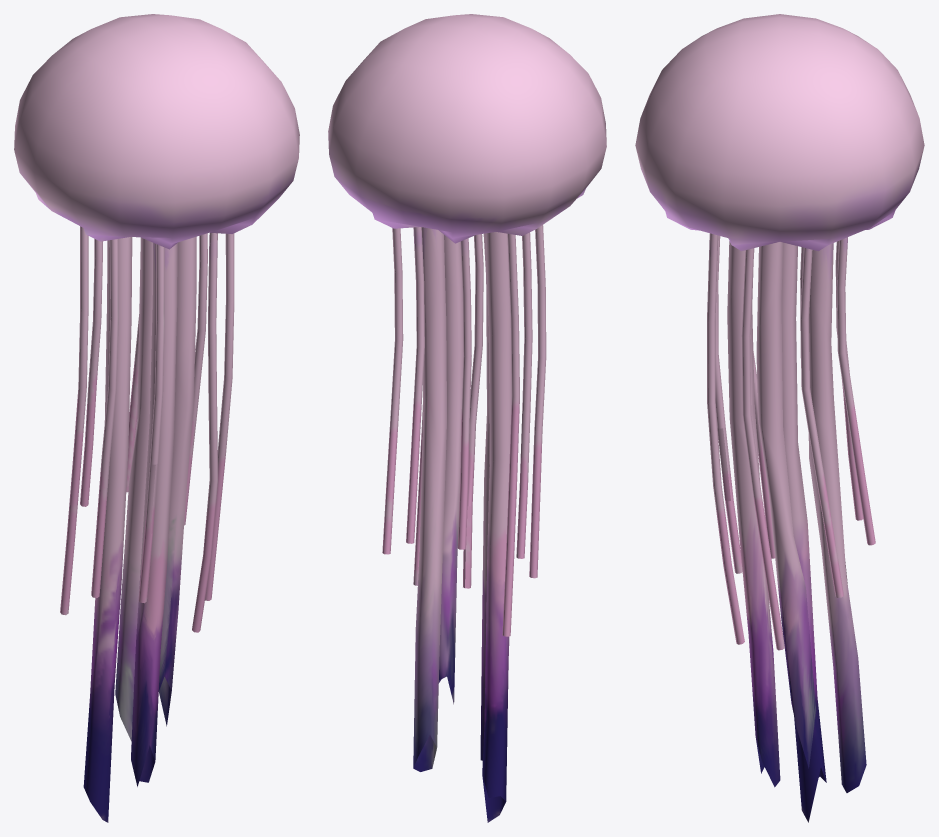
File: jellyfish1_edit_for_FBX.fbx
3 views of the same model, side by side, from view 1: azimuth 30°, elevation 25°; view 2: azimuth 150°, elevation 25°; view 3: azimuth 270°, elevation 25° (orthographic). The views are drawn at different scales.
Parts seen in each view (by area): view 1: pCube2, TubeMesh12, TubeMesh15, TubeMesh10, TubeMesh11, TubeMesh7, TubeMesh3, TubeMesh4, TubeMesh5, TubeMesh6, TubeMesh2, TubeMesh8 (+1 smaller); view 2: pCube2, TubeMesh11, TubeMesh12, TubeMesh10, TubeMesh3, TubeMesh4, TubeMesh8, TubeMesh5, TubeMesh1, TubeMesh7, TubeMesh2, TubeMesh15 (+1 smaller); view 3: pCube2, TubeMesh10, TubeMesh11, TubeMesh15, TubeMesh12, TubeMesh7, TubeMesh6, TubeMesh8, TubeMesh1, TubeMesh5, TubeMesh4, TubeMesh2.
Part boxes in pixels (x1,y1,x2,y2): pCube2: [14, 14, 299, 249]; TubeMesh12: [83, 237, 132, 822]; TubeMesh15: [131, 243, 177, 786]; TubeMesh10: [158, 236, 196, 726]; TubeMesh11: [115, 238, 152, 741]; TubeMesh7: [192, 233, 217, 632]; TubeMesh3: [60, 226, 88, 615]; TubeMesh4: [91, 239, 118, 597]; TubeMesh5: [138, 244, 164, 603]; TubeMesh6: [205, 233, 234, 600]; TubeMesh2: [80, 239, 102, 506]; TubeMesh8: [184, 233, 207, 525]; pCube2: [328, 14, 606, 243]; TubeMesh11: [413, 227, 446, 771]; TubeMesh12: [482, 232, 511, 822]; TubeMesh10: [438, 235, 463, 704]; TubeMesh3: [502, 233, 519, 636]; TubeMesh4: [529, 225, 546, 578]; TubeMesh8: [382, 228, 403, 554]; TubeMesh5: [516, 232, 532, 558]; TubeMesh1: [406, 227, 424, 543]; TubeMesh7: [463, 234, 483, 588]; TubeMesh2: [457, 238, 471, 549]; TubeMesh15: [480, 233, 489, 760]; pCube2: [635, 14, 924, 251]; TubeMesh10: [756, 242, 816, 768]; TubeMesh11: [808, 243, 866, 792]; TubeMesh15: [727, 241, 780, 787]; TubeMesh12: [781, 242, 826, 822]; TubeMesh7: [707, 233, 744, 644]; TubeMesh6: [741, 248, 784, 650]; TubeMesh8: [800, 247, 843, 597]; TubeMesh1: [836, 237, 875, 545]; TubeMesh5: [715, 235, 742, 573]; TubeMesh4: [753, 351, 774, 558]; TubeMesh2: [835, 241, 863, 520].
Size of the model in its own units: 299 by 925 by 299.
